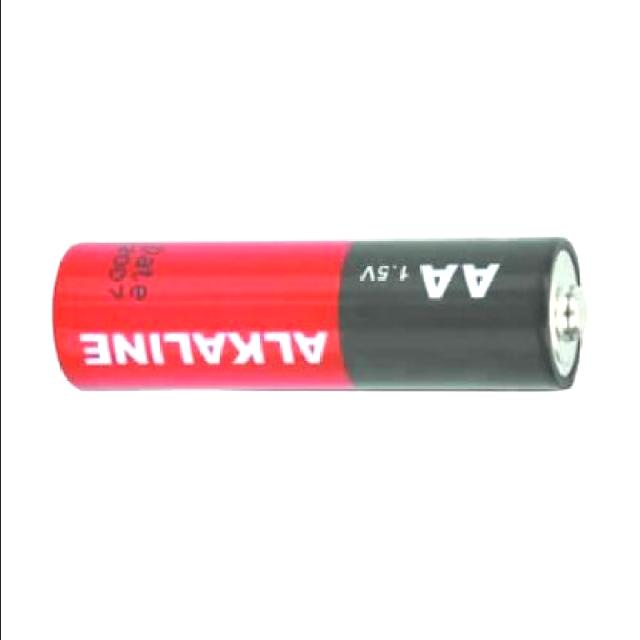AA: (48, 236, 597, 407)
